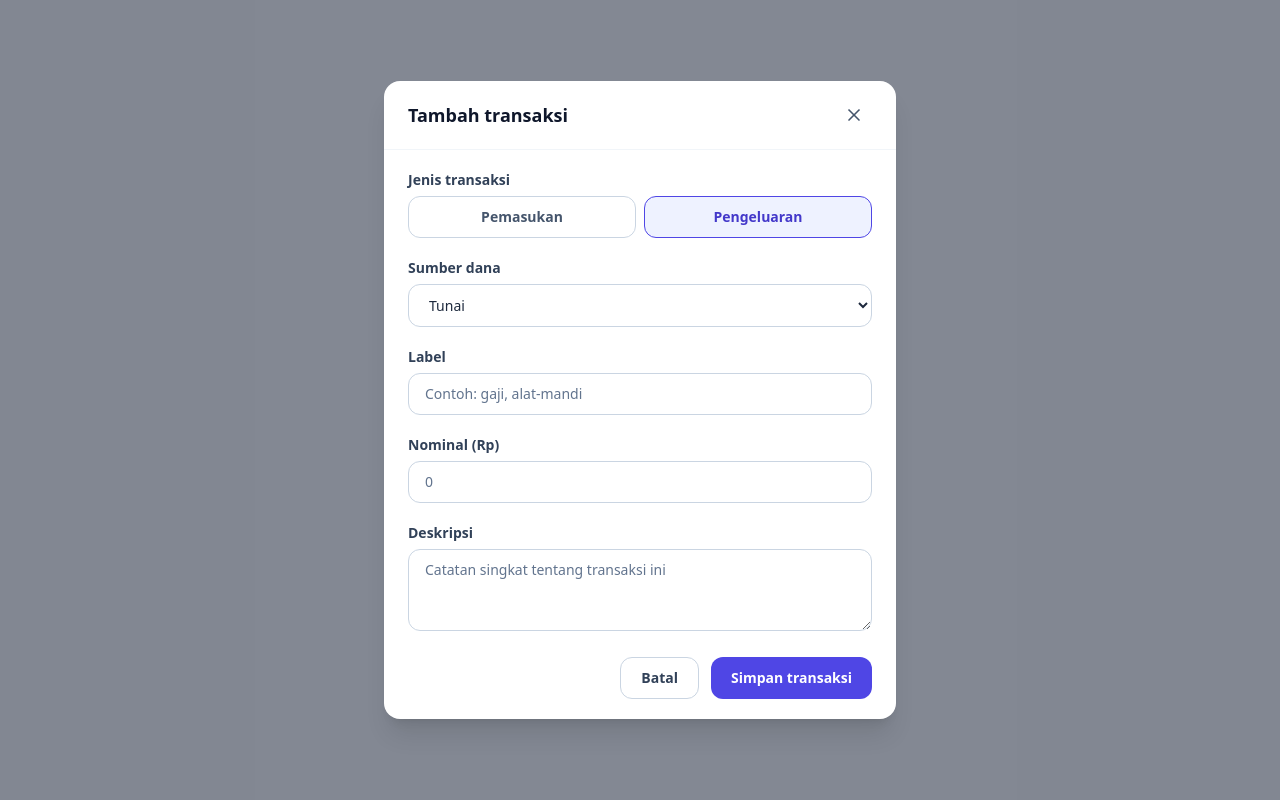
Scenario: CashFlowFormModal › validasi › menolak saat deskripsi kosong
This screenshot has width=1280, height=800.
Type "gaji" into the field with id "cashflow-label". click: (640, 394)
box: [408,373,872,415]
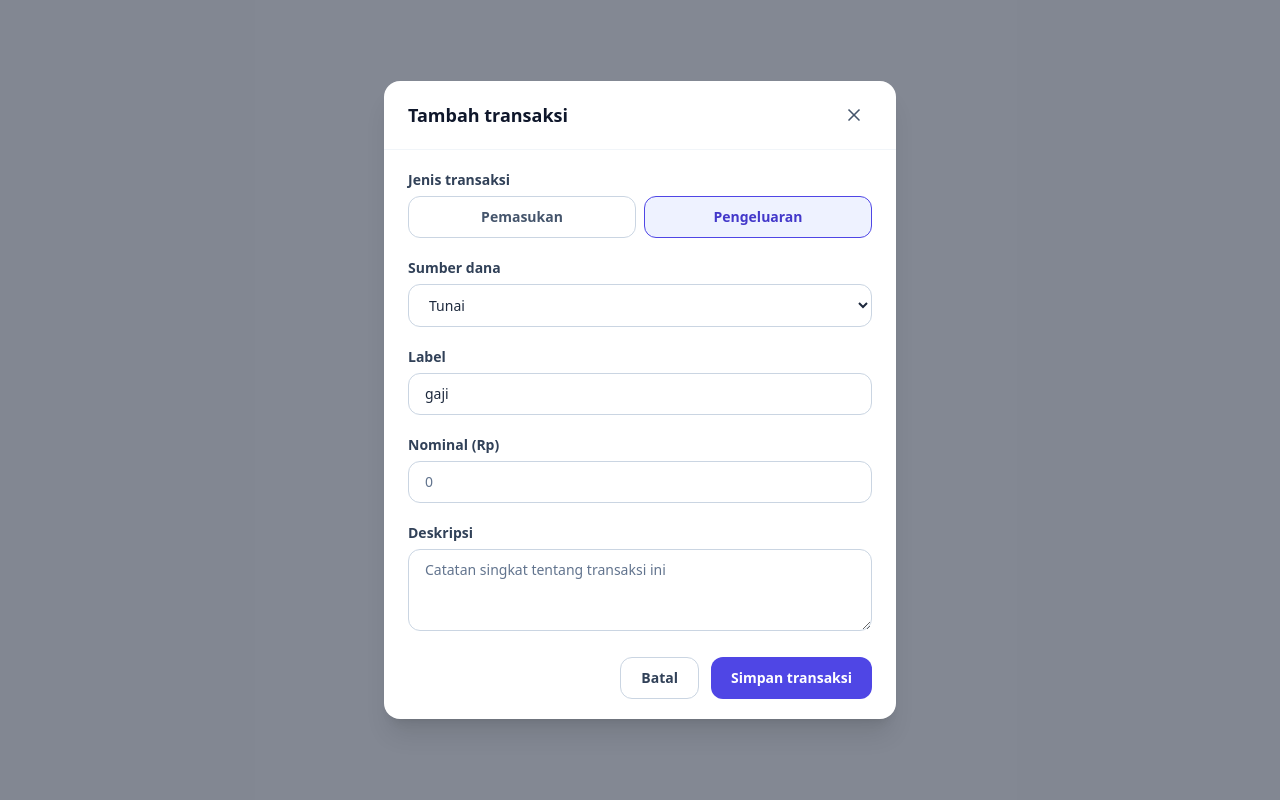
Type "1000" into the number field with id "cashflow-nominal". click: (640, 482)
box: [408,461,872,503]
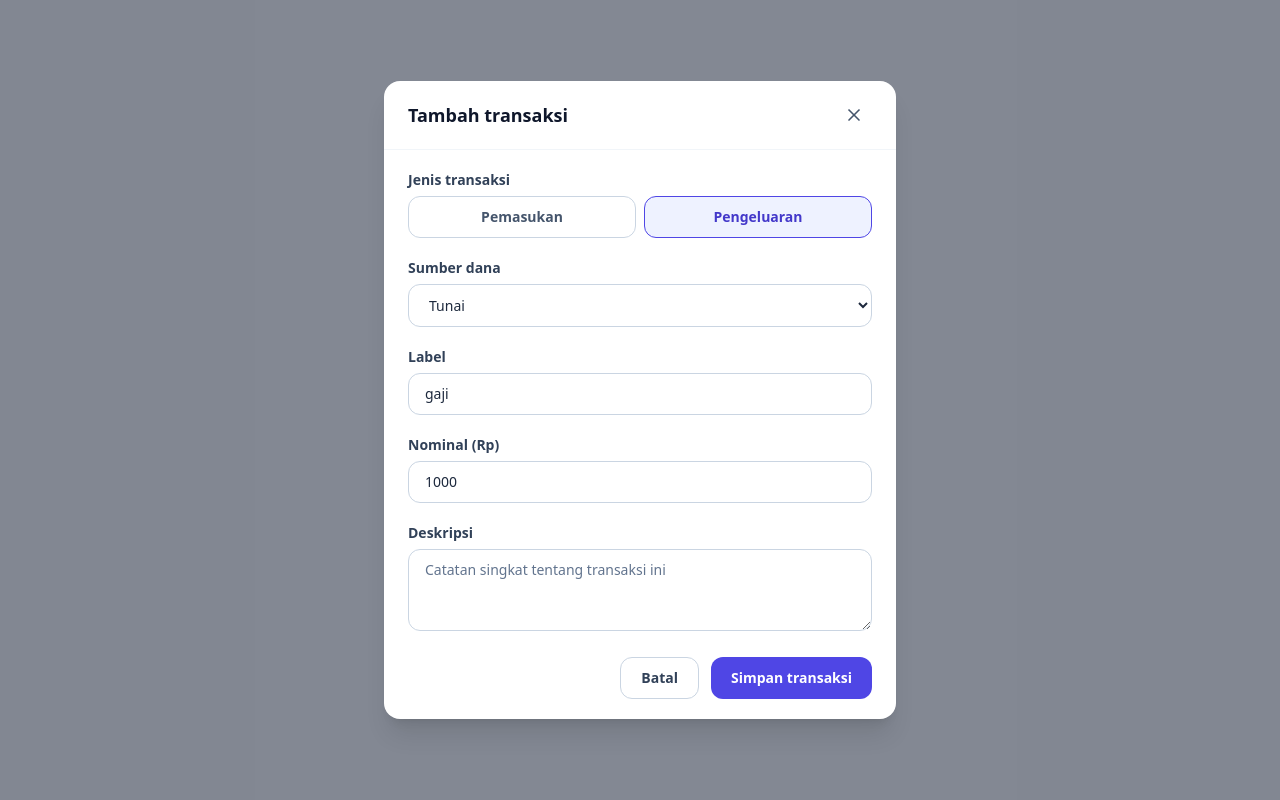
Submit the form, box [408,170,872,699]
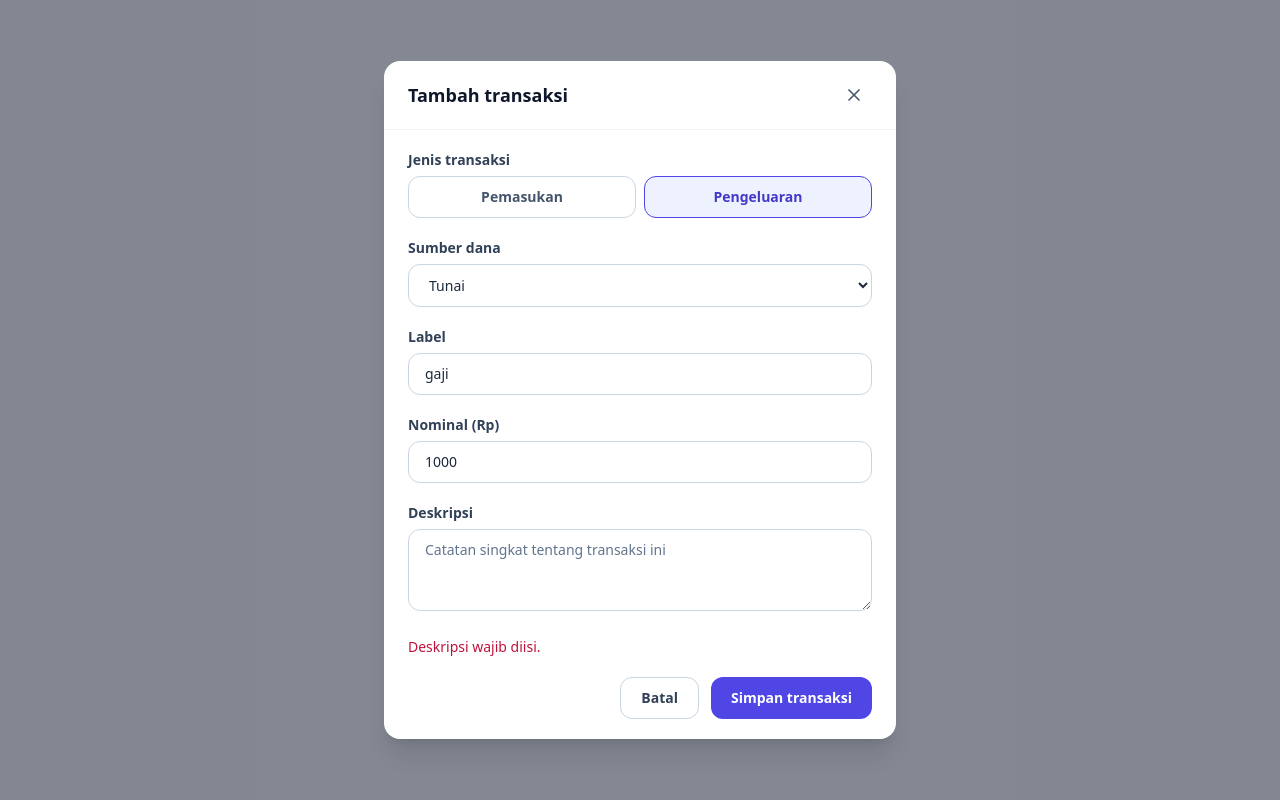
Check: the message "Deskripsi wajib diisi." is shown, box [408,637,540,656]
